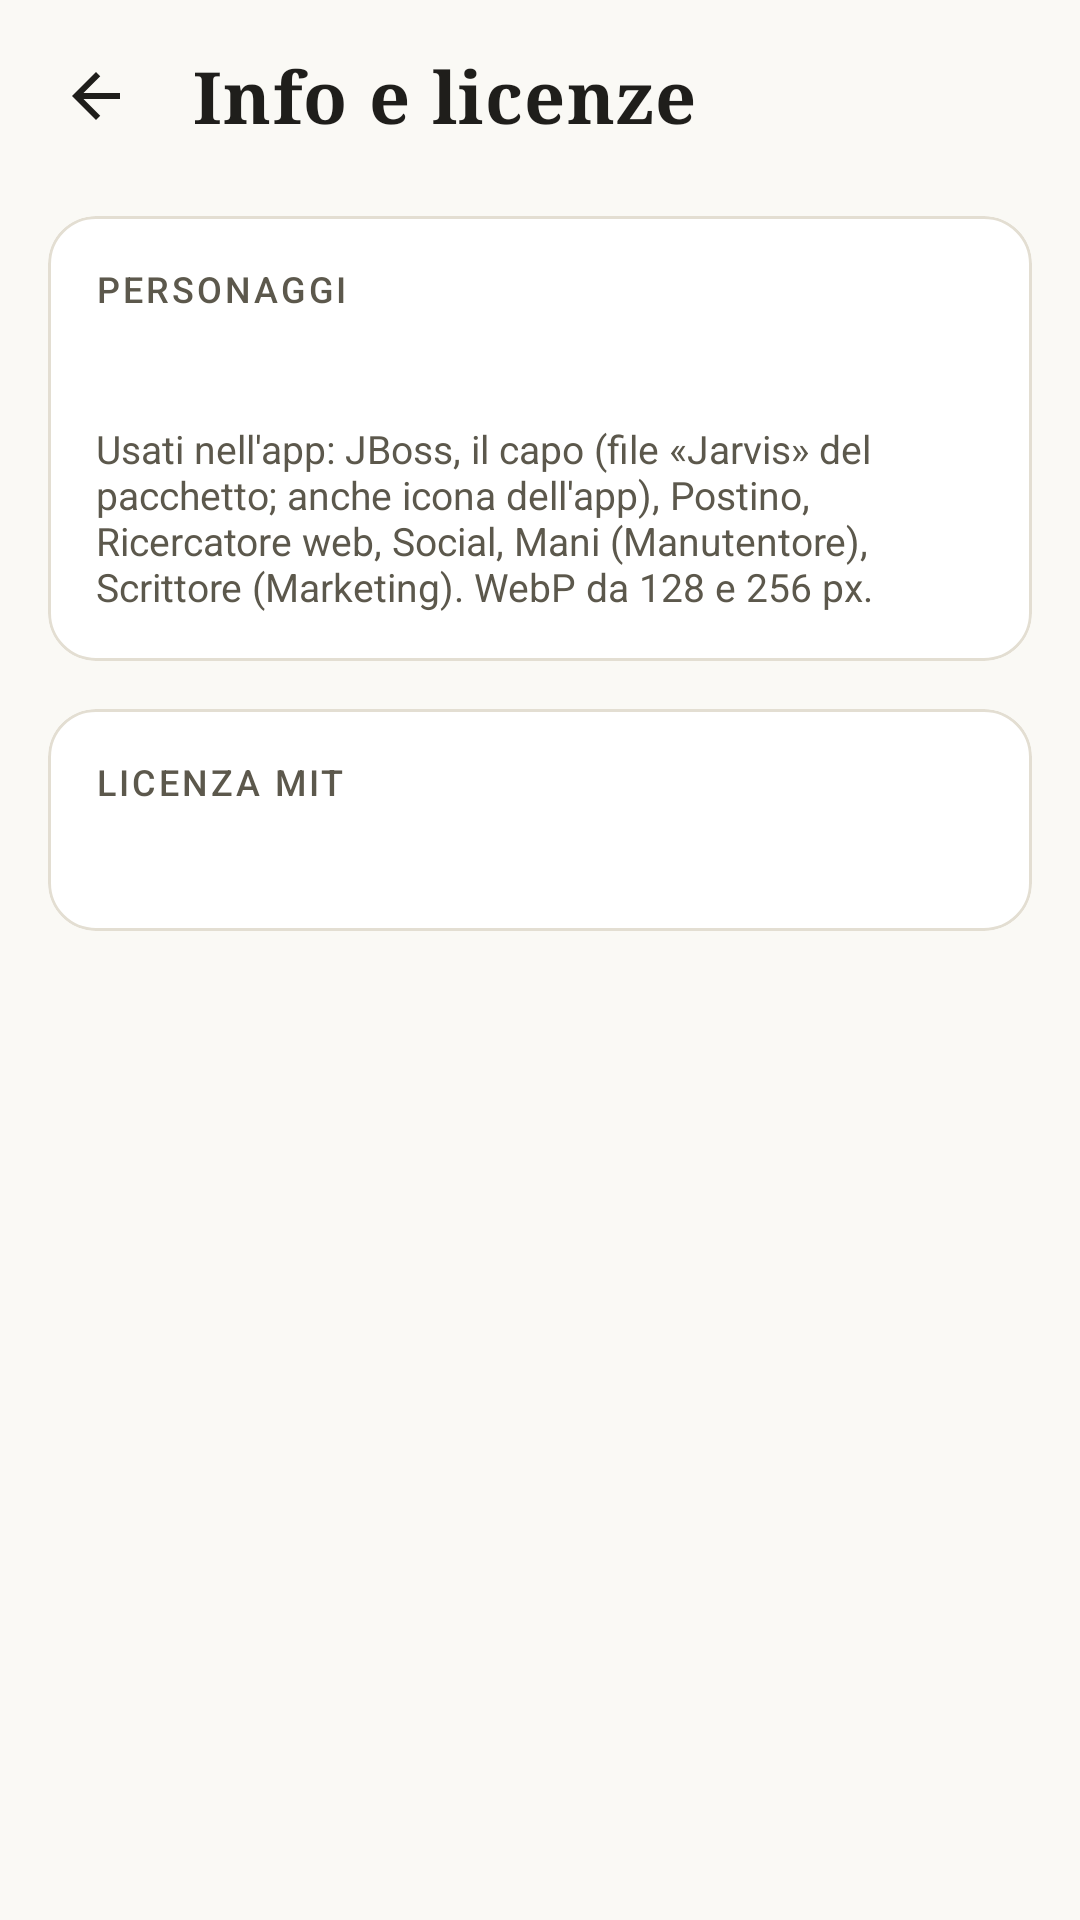

Screen size 1080*1920. Icon name, then its center in pixels as [x,y]:
Indietro: [96,96]
